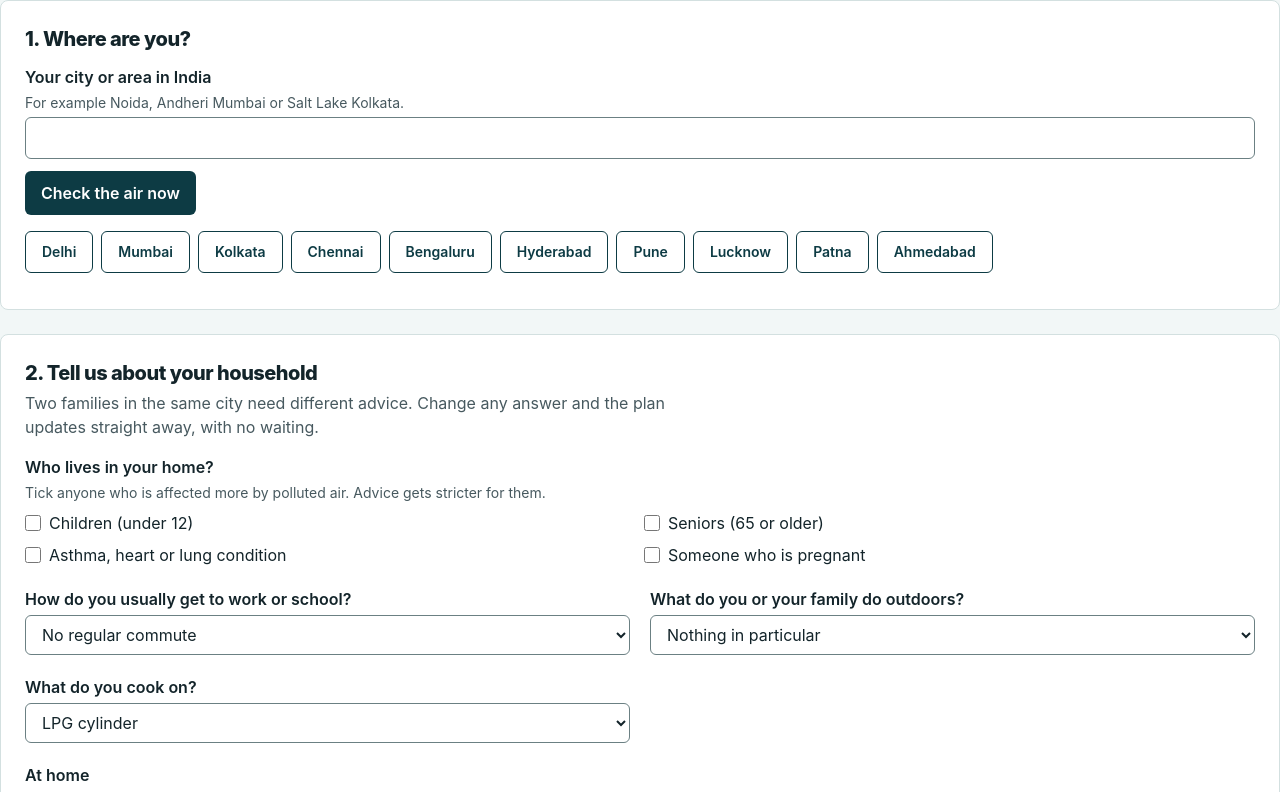
checking the air › checks a typed place when the form is submitted
In the field labelled "Your city or area in India": (640, 138) top-left (25, 117), bottom-right (1255, 159), type "Noida"
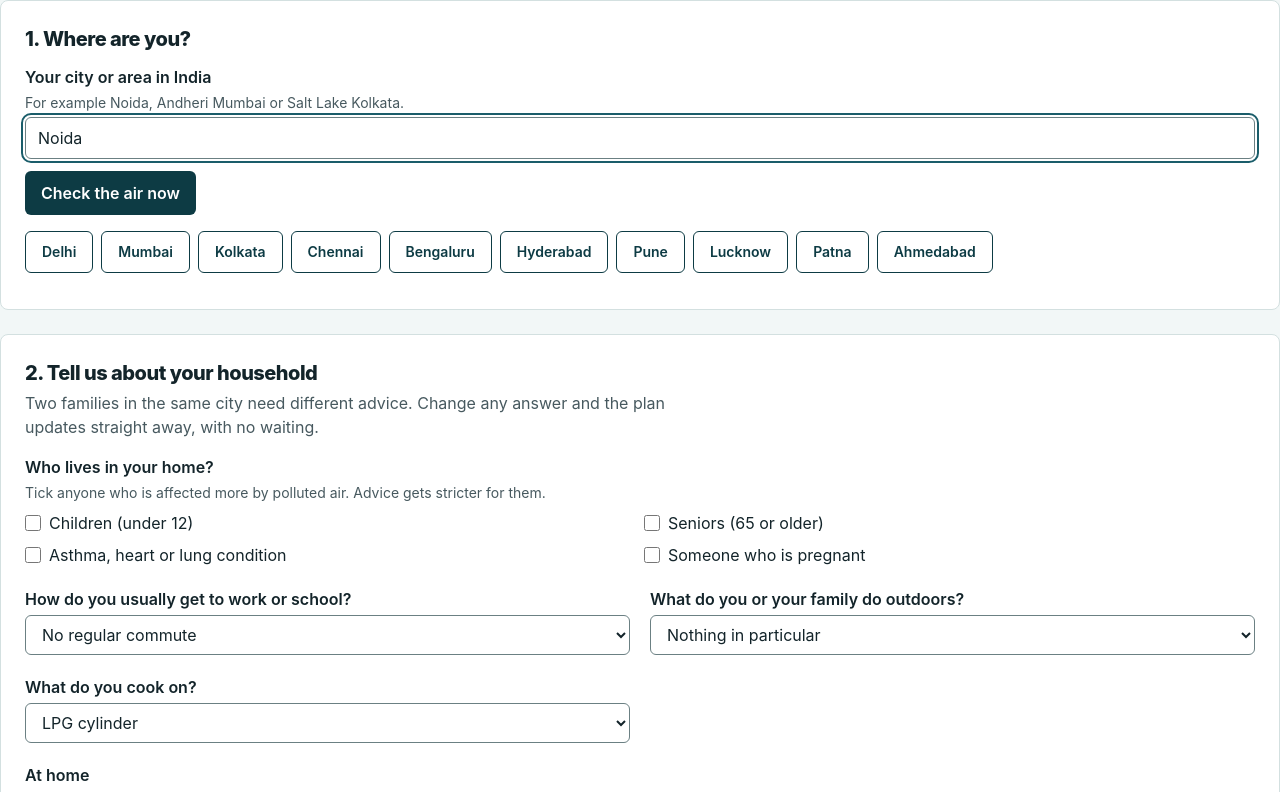
Click the button "Check the air now": click(110, 193) top-left (25, 171), bottom-right (196, 215)
(page scrolled)
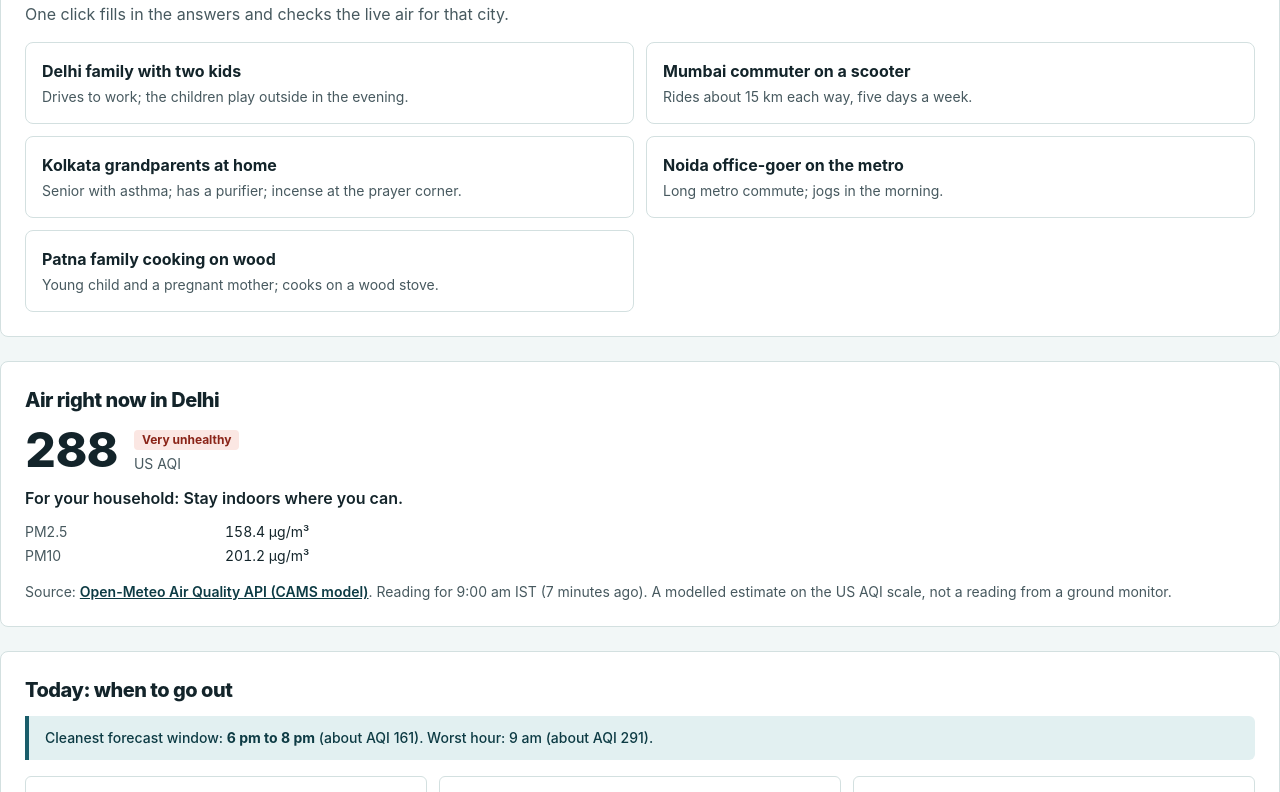
Now the heading "Air right now in Delhi" is shown, box top-left (25, 388), bottom-right (219, 412)
